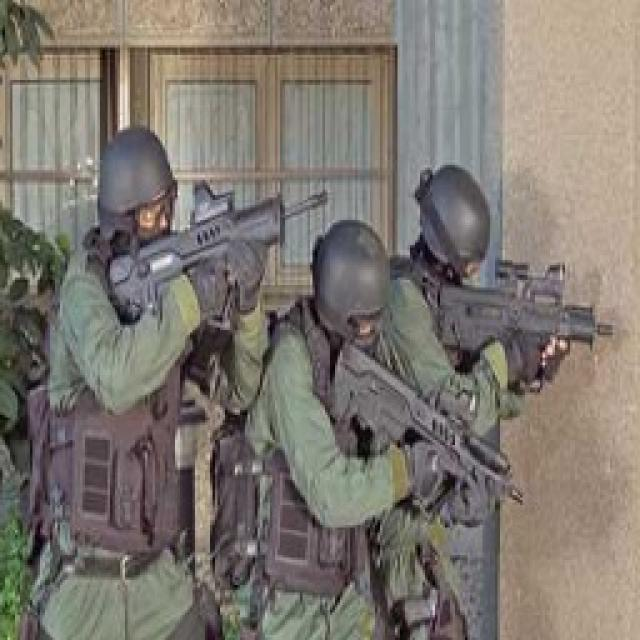long weapon: (316, 343, 516, 517), (107, 194, 350, 317), (430, 261, 609, 380)
